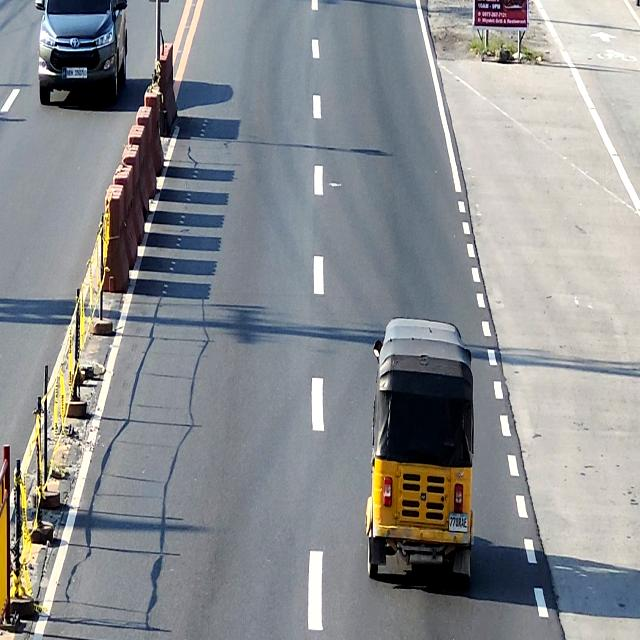Car: (36, 0, 128, 105)
E-bike: (365, 316, 474, 598)
License-Plate: (449, 513, 468, 533), (66, 68, 88, 79)
